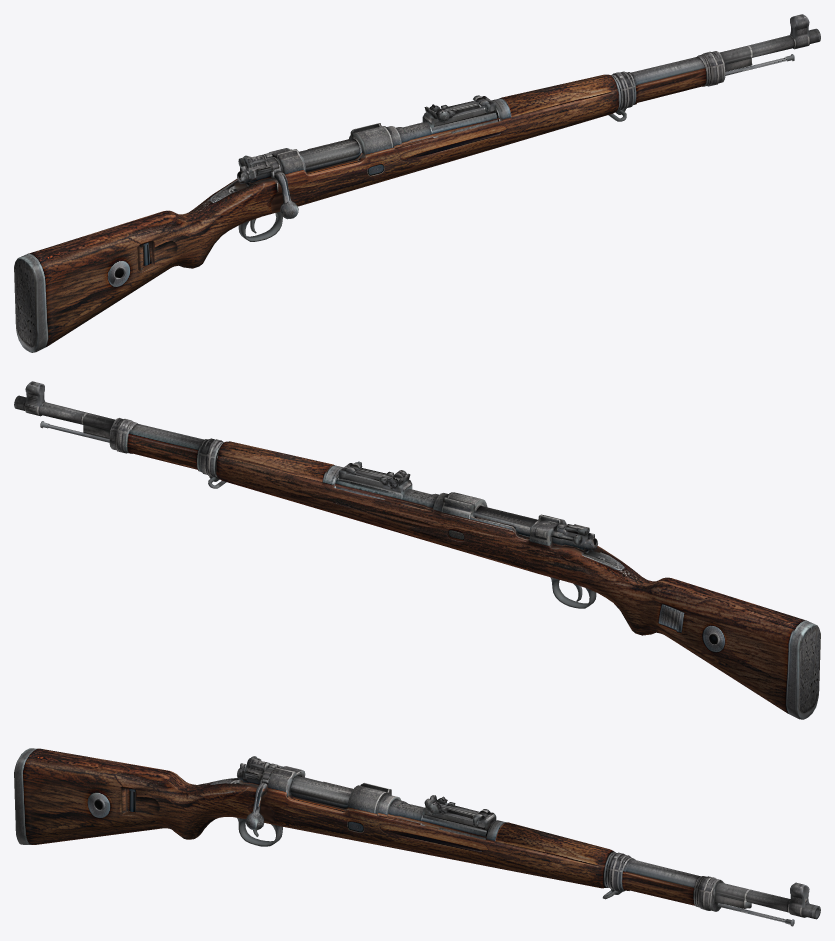
The model's file is statecraft-k98k-approved-textured-b48a435f.glb.
The picture shows the model from 3 angles, top to bottom: view 1: azimuth 30°, elevation 25°; view 2: azimuth 150°, elevation 25°; view 3: azimuth 330°, elevation 25°; orthographic projection.
Parts seen in each view (by area): view 1: tripo_node_0fa6038f-9e8d-4708-a9e8-755be6fdcc67; view 2: tripo_node_0fa6038f-9e8d-4708-a9e8-755be6fdcc67; view 3: tripo_node_0fa6038f-9e8d-4708-a9e8-755be6fdcc67.
Part boxes in pixels (bbox=[...]): tripo_node_0fa6038f-9e8d-4708-a9e8-755be6fdcc67: bbox=[14, 14, 820, 352]; tripo_node_0fa6038f-9e8d-4708-a9e8-755be6fdcc67: bbox=[14, 381, 820, 719]; tripo_node_0fa6038f-9e8d-4708-a9e8-755be6fdcc67: bbox=[14, 748, 820, 926].
Size of the model in its own units: 0.9995 by 0.1772 by 0.0718.
1 material, 1 textured.
